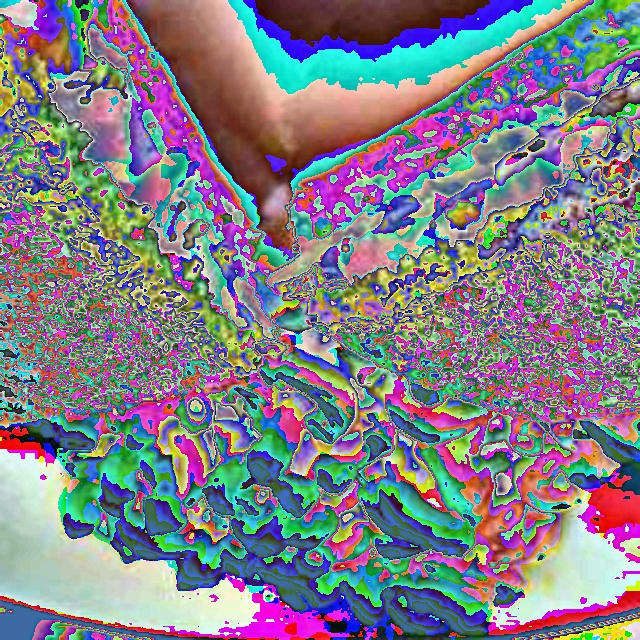background: (0, 0, 640, 633)
